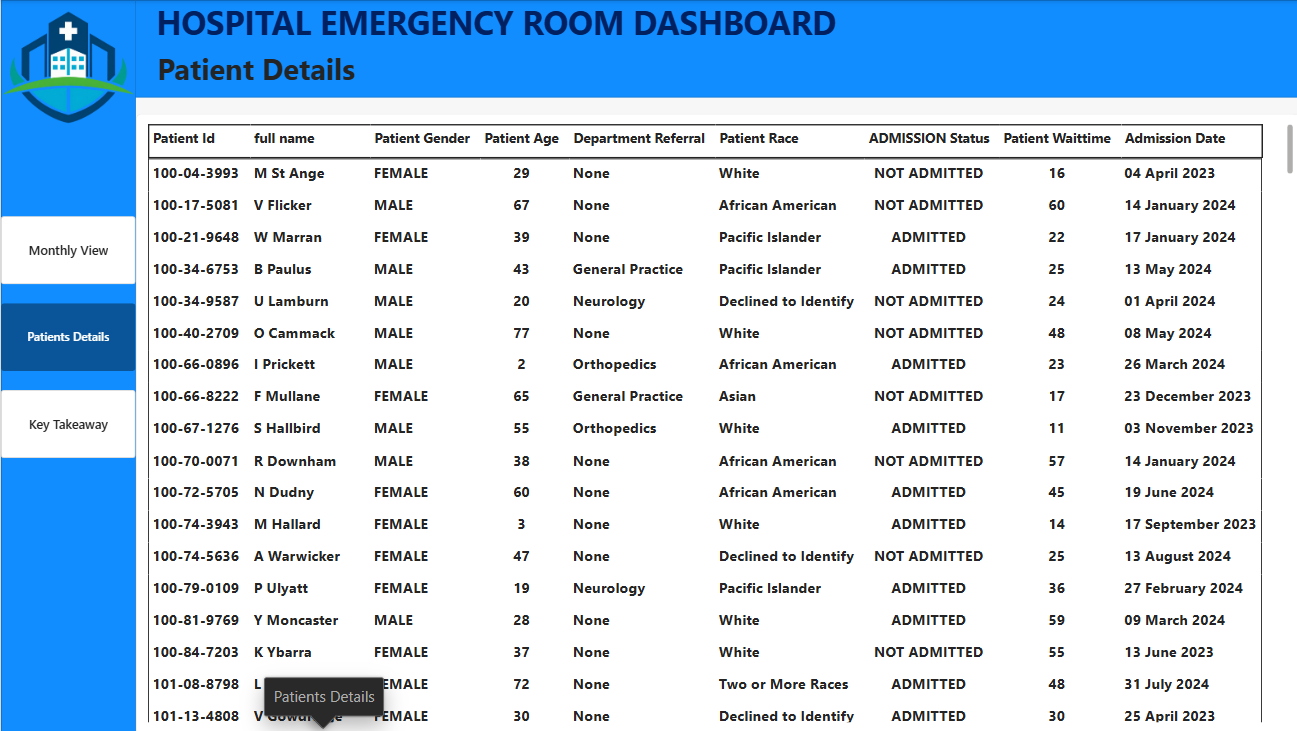

The page's visual inventory and layout, read from the dashboard file:
{"tool":"powerbi","page":{"name":"Patients Details","canvas":[1920,1080],"ordinal":1},"visuals":[{"type":"shape","box":[9.2,0,1910.4,143.6],"z":0},{"type":"shape","box":[174.8,0,1744.8,143.6],"z":500},{"type":"textbox","box":[116,0,1113.5,84.7],"z":1000},{"type":"textbox","box":[9,212,1910,150],"z":2000},{"type":"textbox","box":[0,404.9,1910,150],"z":3000},{"type":"textbox","box":[230.1,71.8,318.4,71.8],"z":4000},{"type":"shape","box":[0,0,198.8,1080.4],"z":5000},{"type":"tableEx","fields":{"Values":["Hospital ER_Data.Patient Id","Hospital ER_Data.full name","Hospital ER_Data.Patient Gender","Hospital ER_Data.Patient Age","Hospital ER_Data.Department Referral","Hospital ER_Data.Patient Race","Hospital ER_Data.ADMISSION Status","Hospital ER_Data.Patient Waittime","Hospital ER_Data.CAdmission"]},"box":[198.8,167.5,1720.9,912.9],"z":5001},{"type":"image","box":[0,0,198.8,189.6],"z":5002},{"type":"pageNavigator","box":[0,318.4,198.8,357.1],"z":5003}]}

Visuals, with their boxes in screenshot pixels (x1, y1, x2, y2), scaled from the page's 1920x1080 canvas onto the 1297x731 screenshot:
shape: {"left": 6, "top": 0, "right": 1296, "bottom": 97}
shape: {"left": 118, "top": 0, "right": 1296, "bottom": 97}
textbox: {"left": 78, "top": 0, "right": 831, "bottom": 57}
textbox: {"left": 6, "top": 143, "right": 1296, "bottom": 245}
textbox: {"left": 0, "top": 274, "right": 1290, "bottom": 376}
textbox: {"left": 155, "top": 49, "right": 371, "bottom": 97}
shape: {"left": 0, "top": 0, "right": 134, "bottom": 730}
tableEx - Hospital ER_Data.Patient Id x Hospital ER_Data.full name: {"left": 134, "top": 113, "right": 1296, "bottom": 730}
image: {"left": 0, "top": 0, "right": 134, "bottom": 128}
pageNavigator: {"left": 0, "top": 216, "right": 134, "bottom": 457}
